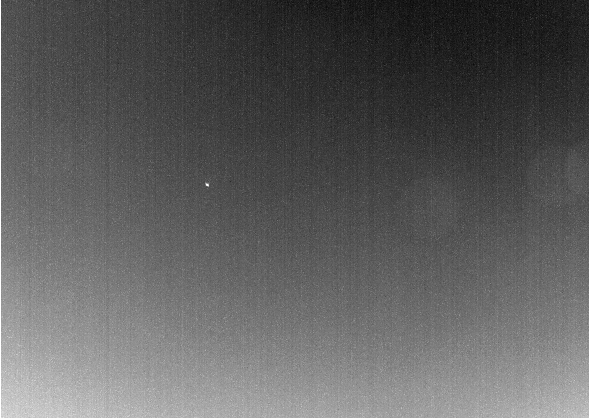dim target: (204, 182, 210, 188)
